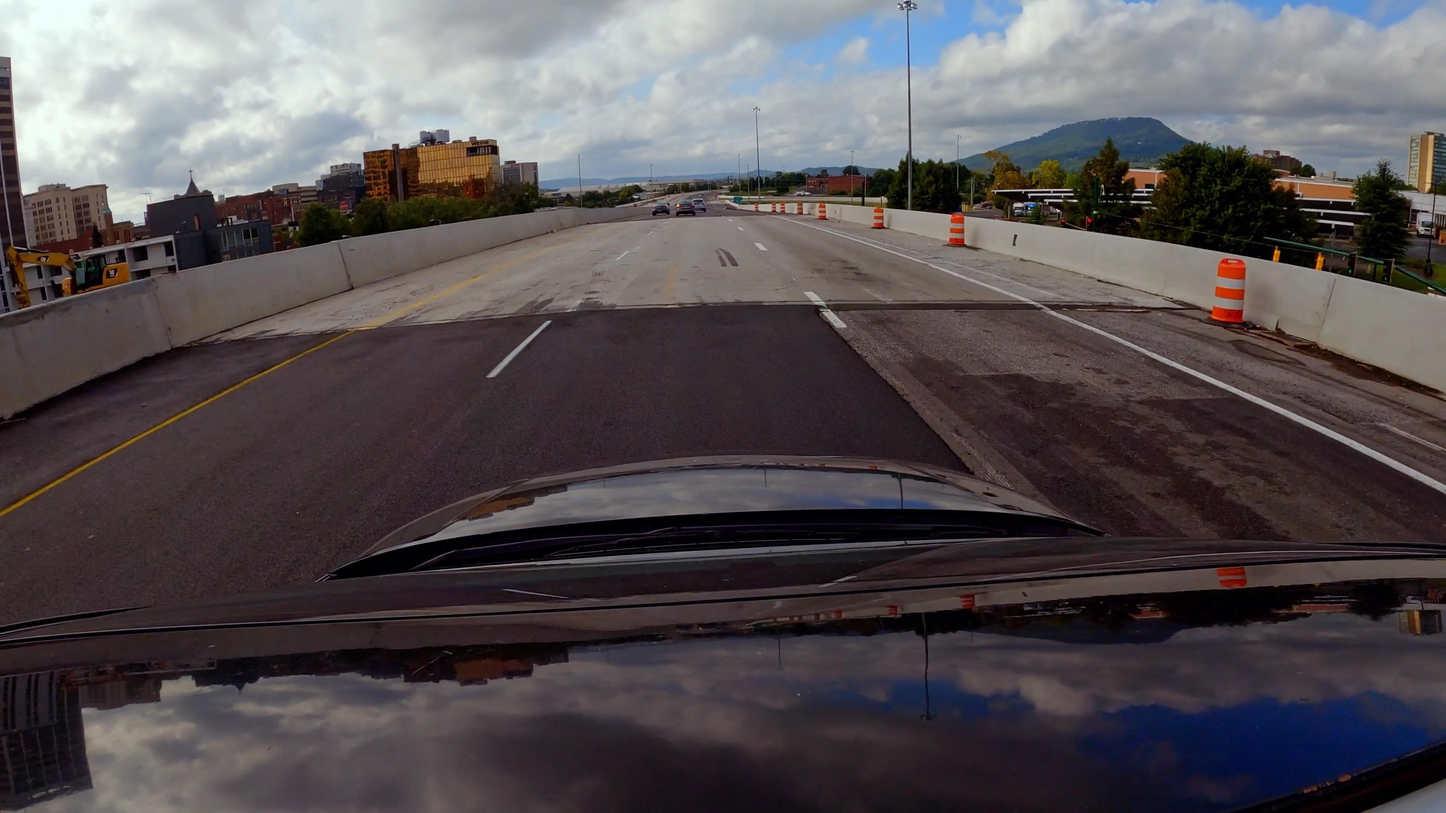dry: (0, 195, 1446, 625)
